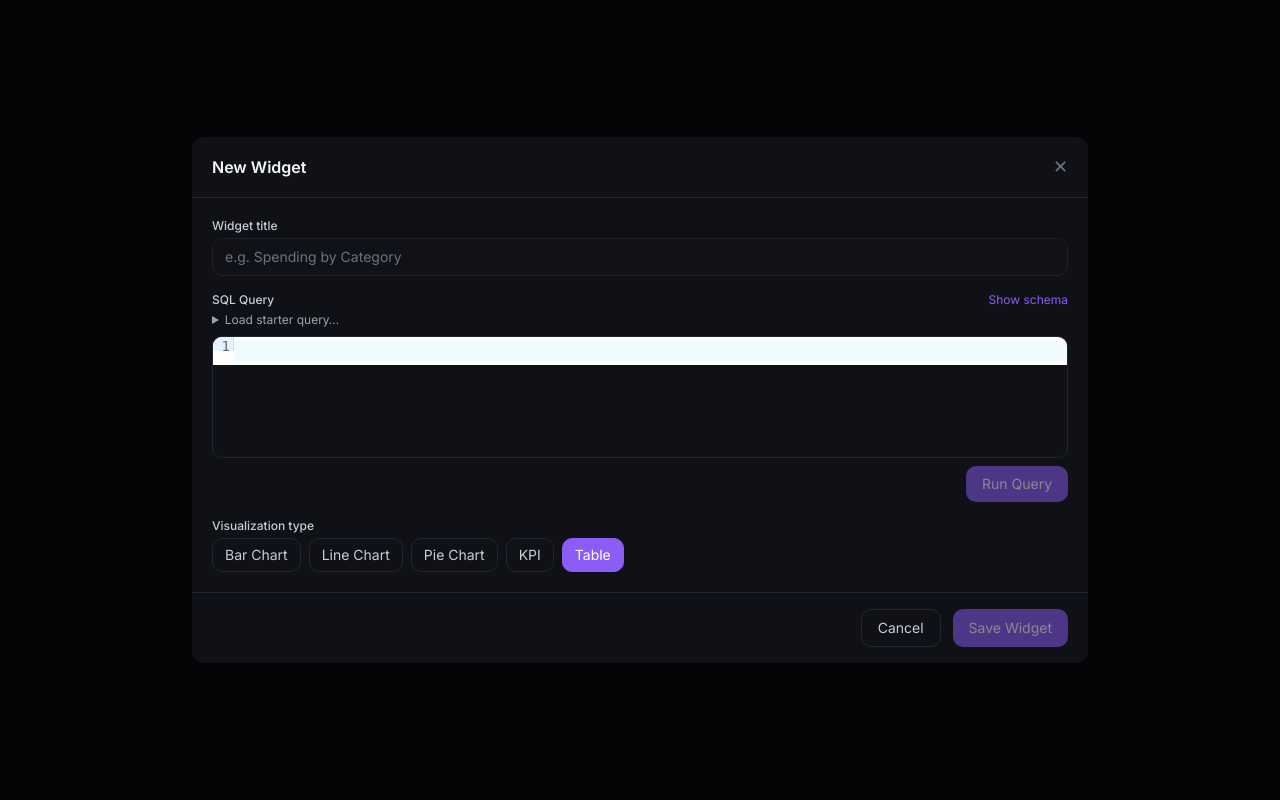
it: WidgetEditor › toggle schema button toggles schema panel
Click the button "Show schema": [1028, 300] box [988,292,1068,308]
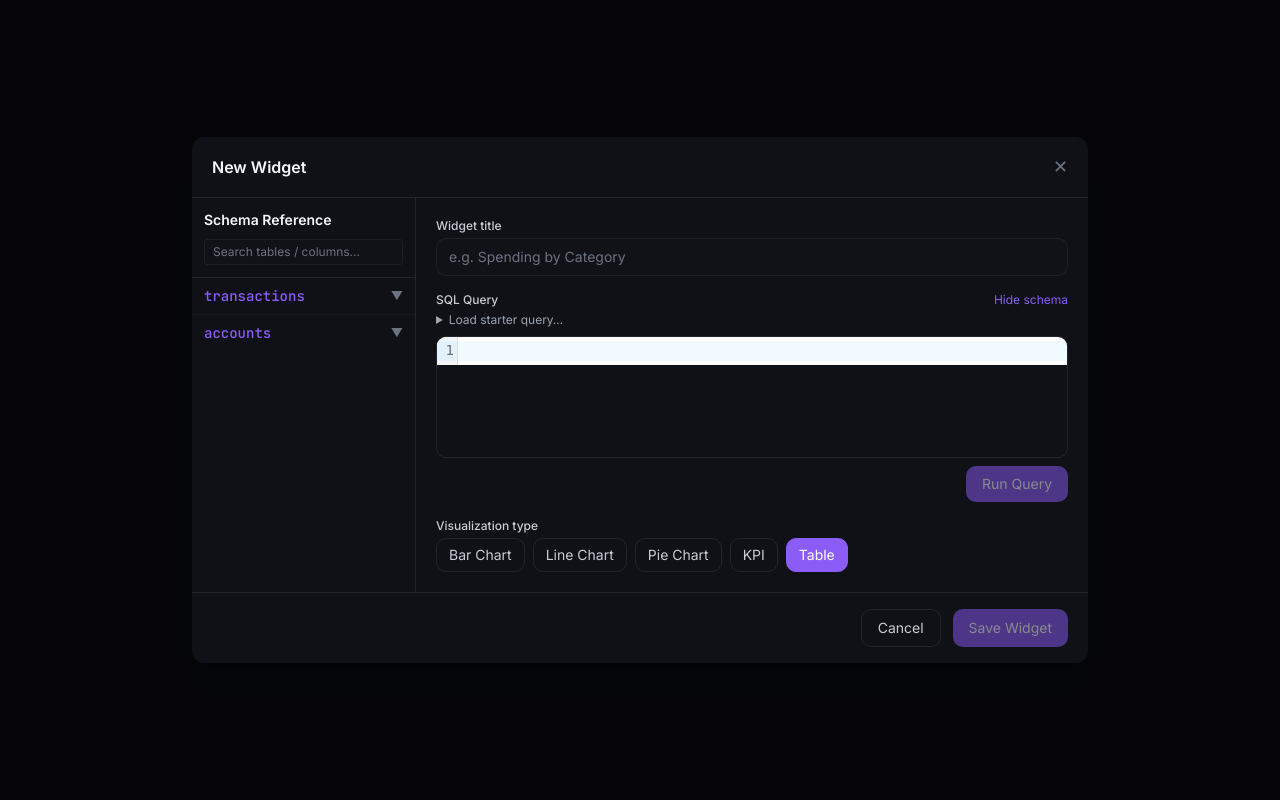
Expected: the heading "Schema Reference" is shown, [204,211,331,228]
